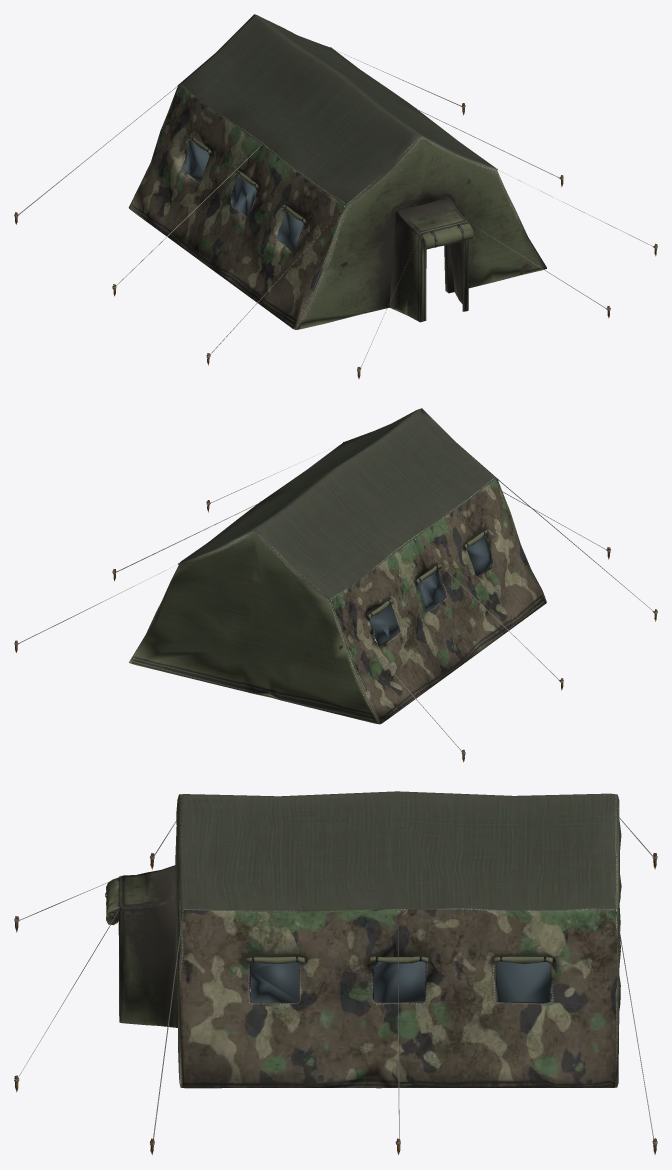
Rendered from base_tent.glb.
The picture shows the model from 3 angles, top to bottom: view 1: azimuth 30°, elevation 25°; view 2: azimuth 150°, elevation 25°; view 3: azimuth 270°, elevation 25°; orthographic projection. The views are drawn at different scales.
Parts seen in each view (by area): view 1: base_tent; view 2: base_tent; view 3: base_tent.
Boxes of the visible parts, x1,y1,x2,y2 form: base_tent: [14, 14, 657, 378]; base_tent: [14, 408, 657, 762]; base_tent: [14, 791, 657, 1154].
Bounding box in the file's own units: 11.18 × 4 × 10.55.
2 materials, 1 textured.
